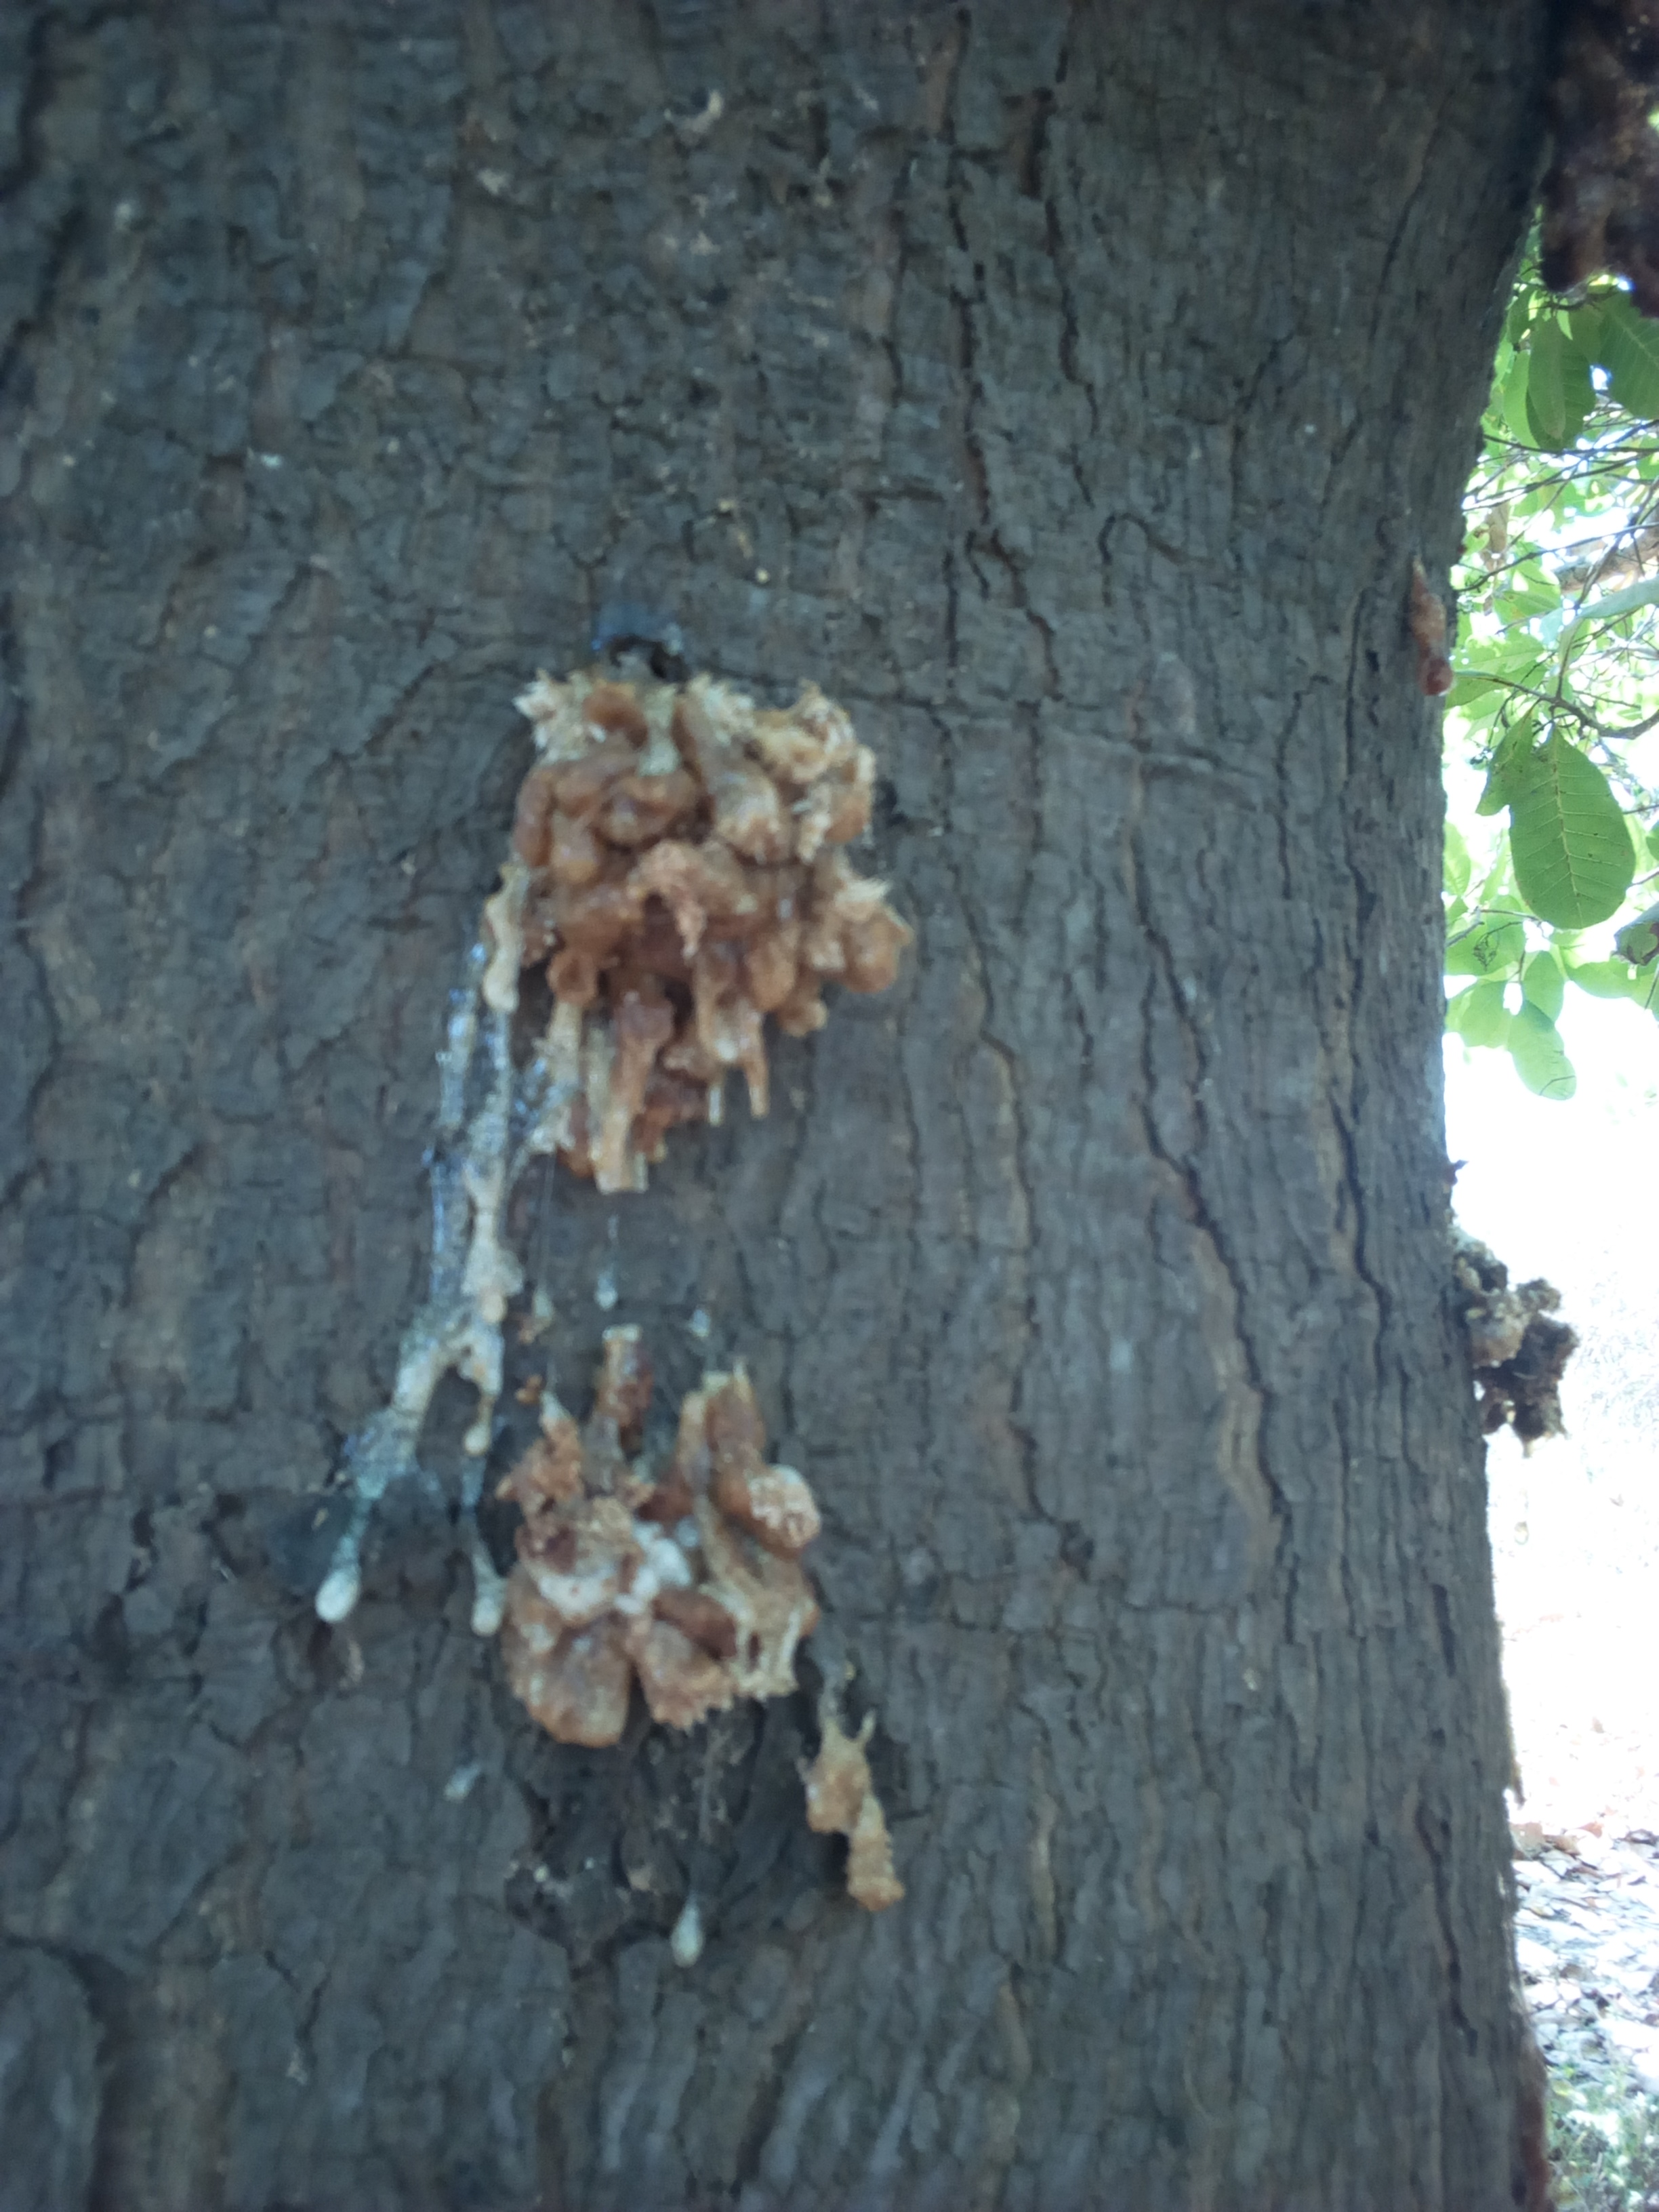Apate terebrans: (176, 615, 1633, 1895)
